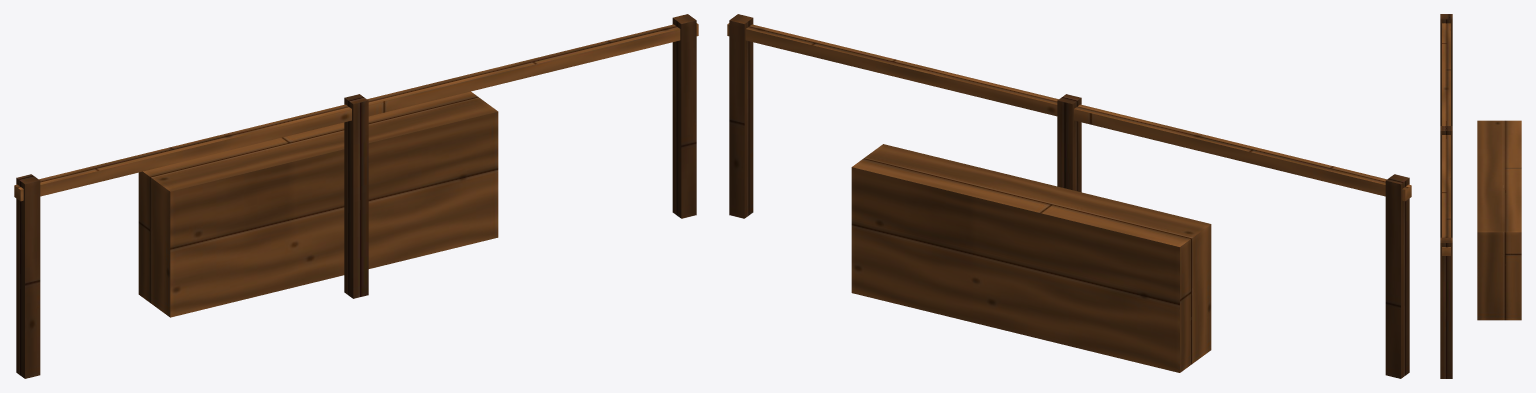
Rendered from hitching_rail.glb.
3 renders of one model, left to right at view 1: azimuth 30°, elevation 25°; view 2: azimuth 150°, elevation 25°; view 3: azimuth 270°, elevation 25°, orthographic. The views are drawn at different scales.
Visible parts, largest first — view 1: props_0_0; view 2: props_0_0; view 3: props_0_0.
Part boxes in pixels (x1,y1,x2,y2): props_0_0: (14, 14, 698, 378); props_0_0: (727, 14, 1411, 378); props_0_0: (1440, 14, 1521, 378).
Size of the model in its own units: 6.2 by 1.7 by 0.92.
Materials: 1 (1 with a texture image).
